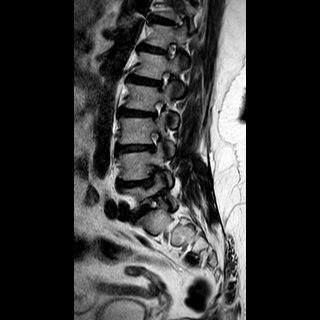LFS1: (151, 65, 178, 95), (142, 126, 164, 158)
